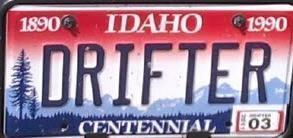placa de veiculo: (3, 4, 289, 138)
